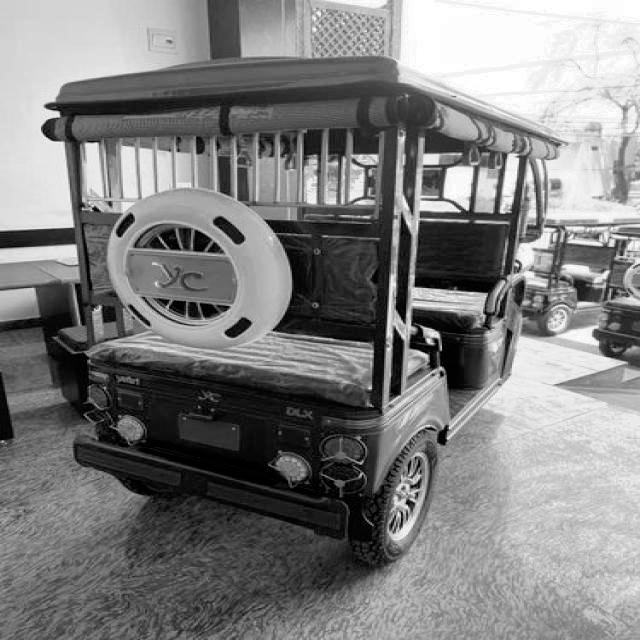Toto: (41, 47, 559, 588)
